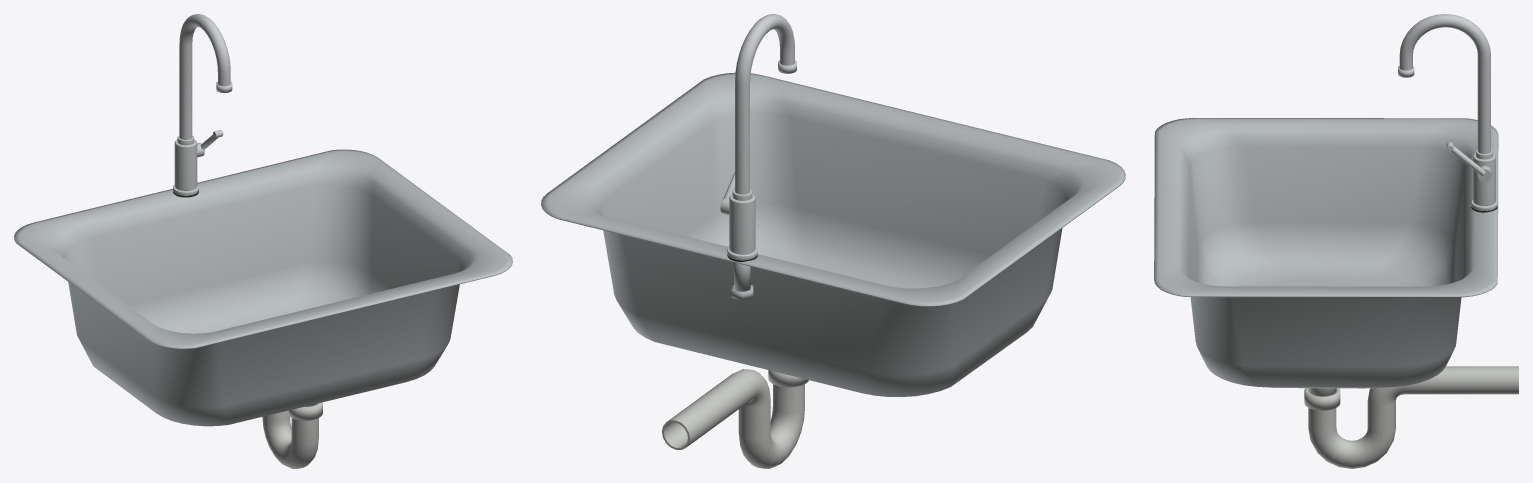
The model's file is KitchenSink_LOD0.fbx.
3 views of the same model, side by side, from view 1: azimuth 30°, elevation 25°; view 2: azimuth 150°, elevation 25°; view 3: azimuth 270°, elevation 25° (orthographic). The views are drawn at different scales.
Parts seen in each view (by area): view 1: Body_LOD0; view 2: Body_LOD0; view 3: Body_LOD0, Tap_Lever_LOD0.
Boxes of the visible parts, left/top/right/bottom form: Body_LOD0: left=14, top=14, right=512, bottom=468; Body_LOD0: left=541, top=14, right=1125, bottom=468; Body_LOD0: left=1154, top=14, right=1518, bottom=468; Tap_Lever_LOD0: left=1446, top=142, right=1491, bottom=181.
Bounding box in the file's own units: 0.54 × 0.6105 × 0.466.
